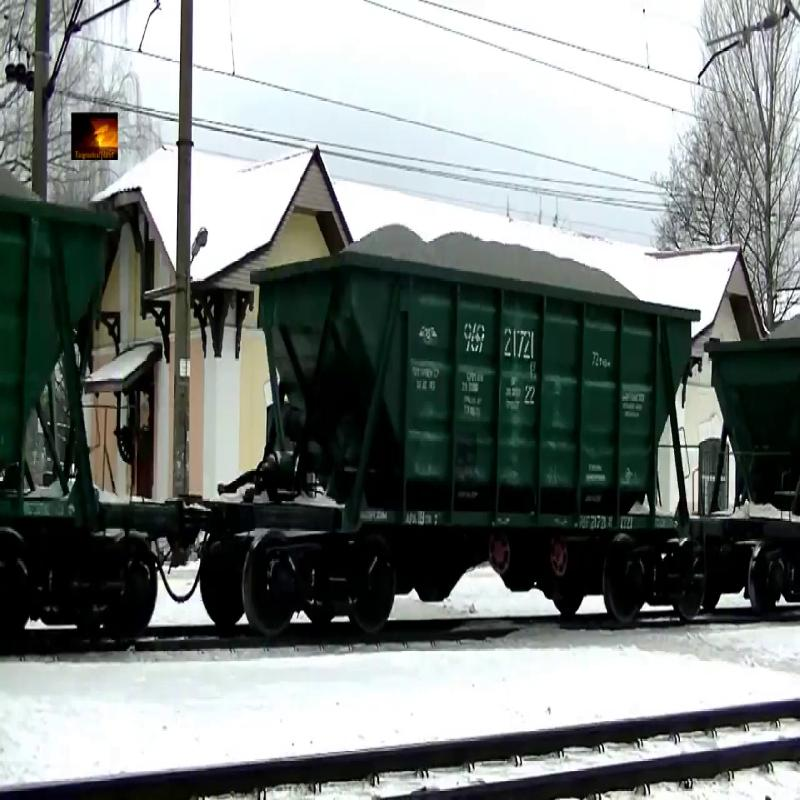train: (240, 219, 692, 632)
